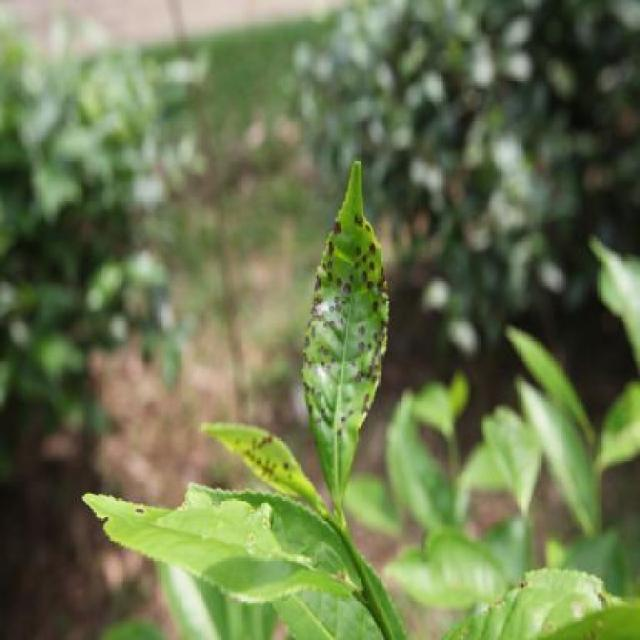Tea Mosquito bug infested leaf: (304, 172, 398, 511), (197, 418, 312, 511)
